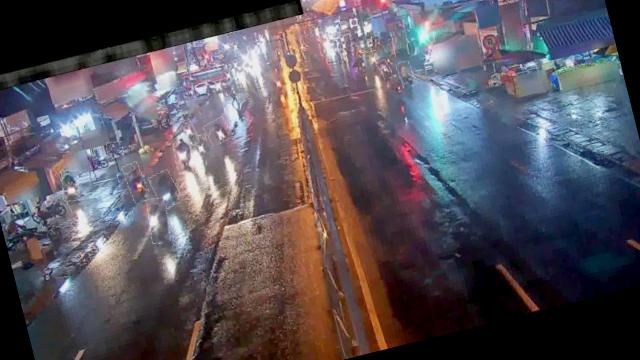Bike: (34, 194, 74, 232), (144, 196, 174, 244), (149, 168, 182, 210), (122, 161, 150, 204), (172, 136, 196, 174), (58, 169, 84, 204), (204, 116, 232, 146), (180, 117, 200, 146), (397, 60, 417, 88), (194, 134, 212, 163), (104, 140, 124, 160), (389, 70, 404, 94), (354, 51, 368, 74), (368, 50, 382, 72), (378, 60, 393, 80)
